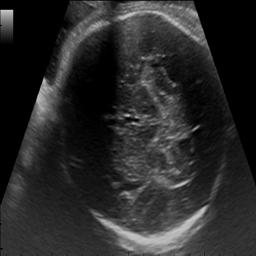normal: (52, 8, 226, 248)
